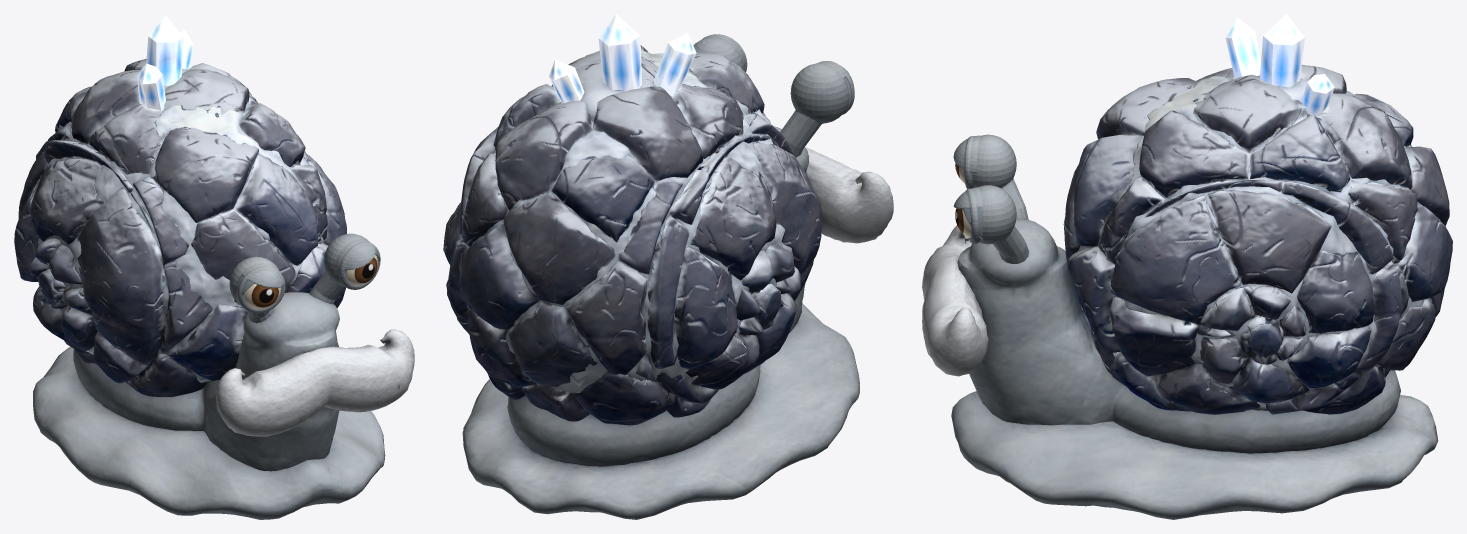
File: rock_snail_frost.glb
3 views of the same model, side by side, from view 1: azimuth 30°, elevation 25°; view 2: azimuth 150°, elevation 25°; view 3: azimuth 270°, elevation 25° (orthographic). The views are drawn at different scales.
Parts seen in each view (by area): view 1: body, soft_body, soft_foot, stalktip_r, stalktip_l; view 2: body, soft_foot, soft_body, stalktip_l, stalktip_r; view 3: body, soft_body, soft_foot, stalktip_r, stalktip_l.
Part boxes in pixels (left/top/right/bottom): body: left=14, top=14, right=346, bottom=396; soft_body: left=73, top=292, right=414, bottom=471; soft_foot: left=33, top=347, right=385, bottom=519; stalktip_r: left=315, top=233, right=380, bottom=299; stalktip_l: left=229, top=256, right=285, bottom=317; body: left=443, top=14, right=821, bottom=425; soft_foot: left=462, top=303, right=859, bottom=519; soft_body: left=507, top=126, right=893, bottom=466; stalktip_l: left=780, top=61, right=854, bottom=148; stalktip_r: left=693, top=34, right=747, bottom=72; body: left=1063, top=14, right=1452, bottom=414; soft_body: left=922, top=219, right=1400, bottom=453; soft_foot: left=951, top=391, right=1438, bottom=519; stalktip_r: left=953, top=185, right=1025, bottom=257; stalktip_l: left=953, top=134, right=1024, bottom=209.
Bounding box in the file's own units: 0.833 × 1.17 × 1.26.
15 materials, 12 textured.
